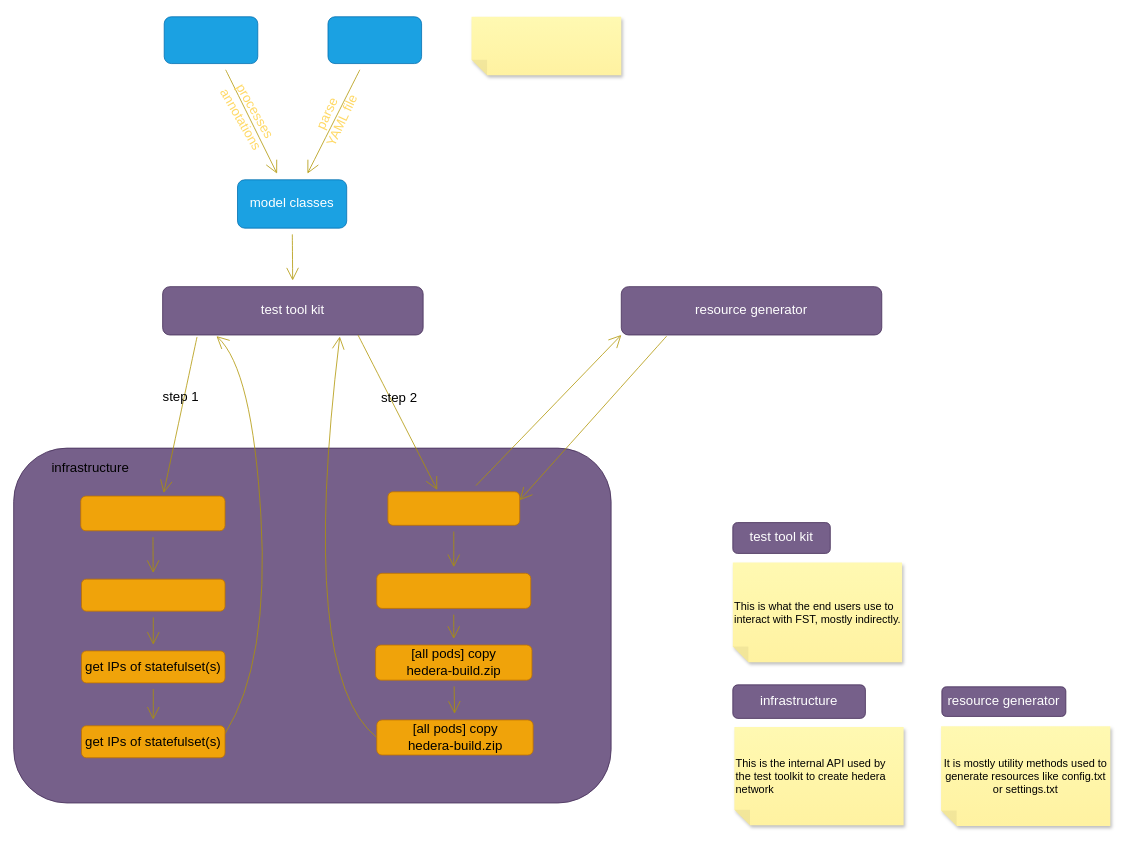
Image size: 1129x845. Some labels were removed from this diagram. The centre of each missing label's shape, as x and y in pixels:
"[all pods] update config.txt, settings.txt" belongs at point 453,590.
"Cli" belongs at point 374,40.
"create config.txt, settings.txt" belongs at point 453,508.
"helm deploy" belongs at point 153,594.
"Junit Tests" belongs at point 210,40.
"prepare values.yaml for helm" belongs at point 152,513.
"This is the entry point to FST" belongs at point 547,46.
